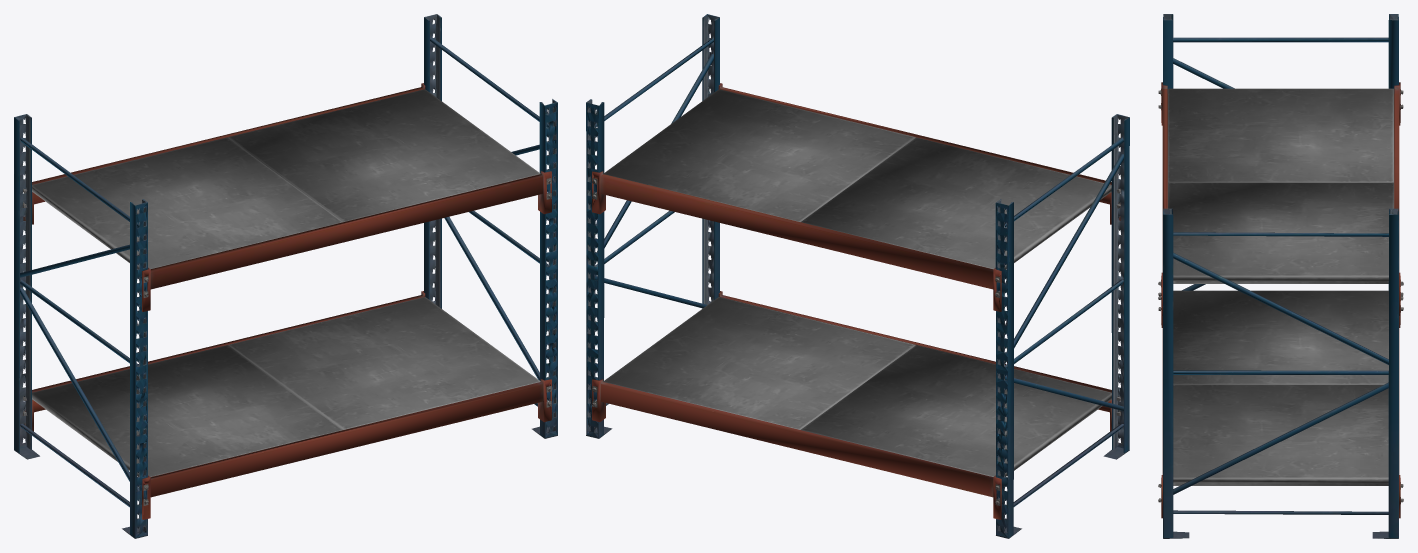
Rendered from rack_large_empty_a01.glb.
3 renders of one model, left to right at view 1: azimuth 30°, elevation 25°; view 2: azimuth 150°, elevation 25°; view 3: azimuth 270°, elevation 25°, orthographic. The views are drawn at different scales.
Parts seen in each view (by area): view 1: sm_rack_a01_mesh_00; view 2: sm_rack_a01_mesh_00; view 3: sm_rack_a01_mesh_00.
Part boxes in pixels (x1,y1,x2,y2): sm_rack_a01_mesh_00: (14, 14, 557, 538); sm_rack_a01_mesh_00: (586, 14, 1129, 538); sm_rack_a01_mesh_00: (1158, 14, 1403, 538).
Bounding box in the file's own units: 4 × 3.01 × 2.07.
Materials: 3 (3 with a texture image).
